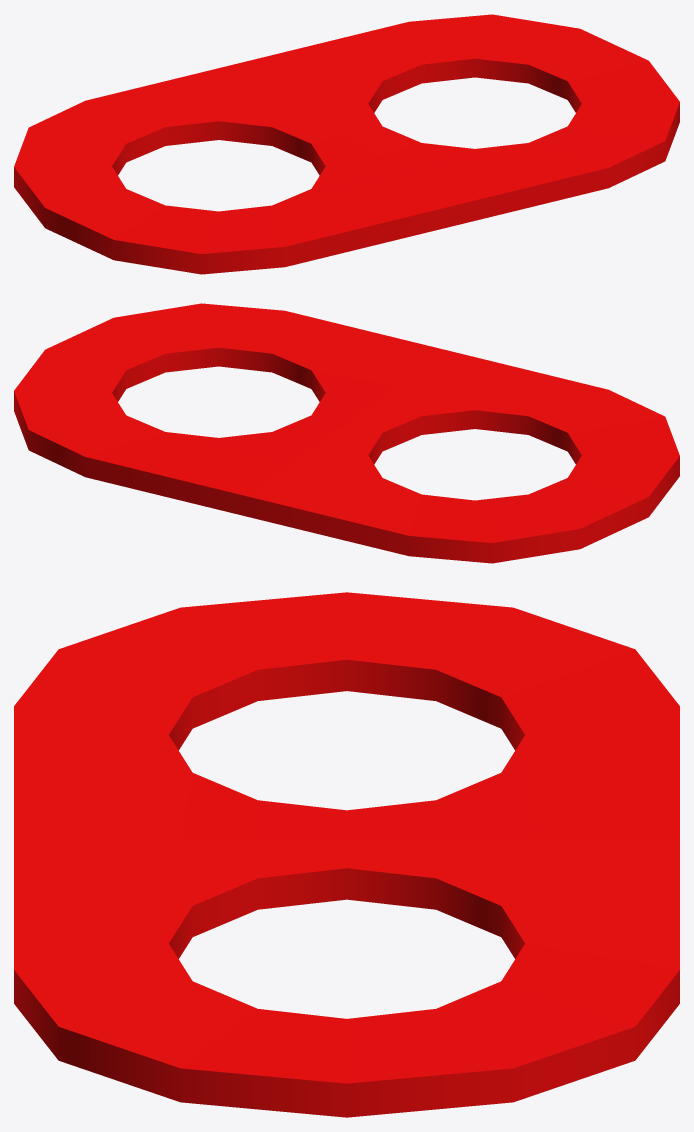
File: TwoLongRed.fbx
3 views of the same model, one above another, from view 1: azimuth 30°, elevation 25°; view 2: azimuth 150°, elevation 25°; view 3: azimuth 270°, elevation 25° (orthographic). The views are drawn at different scales.
Parts seen in each view (by area): view 1: Blue2; view 2: Blue2; view 3: Blue2.
Part boxes in pixels (x1,y1,x2,y2): Blue2: (14, 14, 679, 274); Blue2: (14, 303, 679, 563); Blue2: (14, 592, 679, 1117).
Size of the model in its own units: 6.02 by 0.1942 by 3.45.
